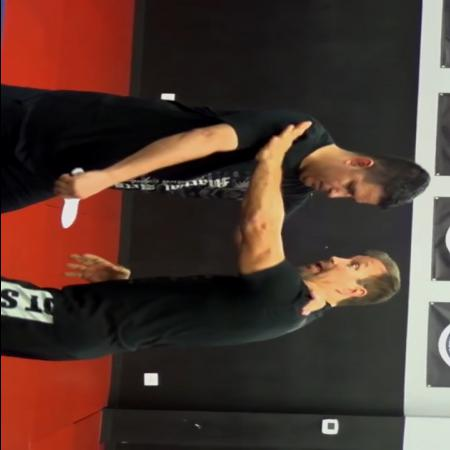long weapon: (53, 164, 90, 232)
